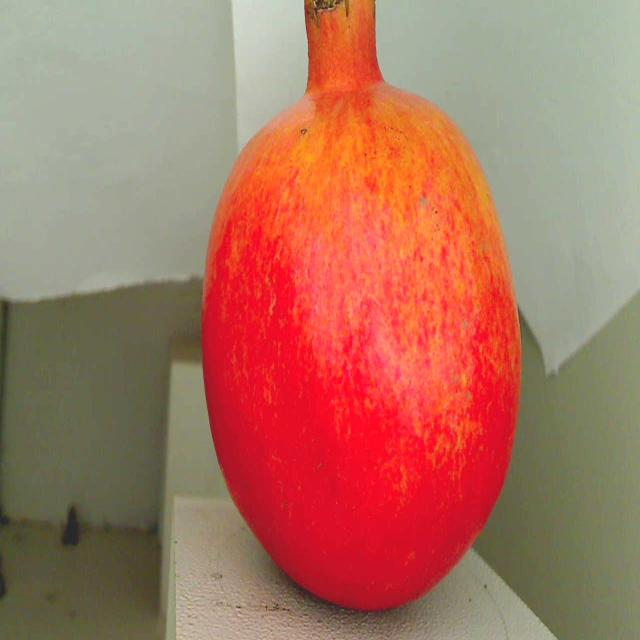pomegranate: (187, 0, 536, 640)
